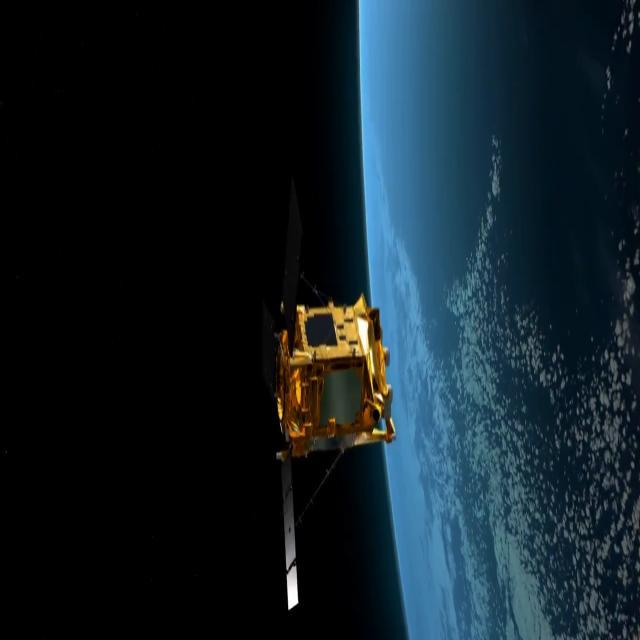sat: (246, 214, 402, 640)
